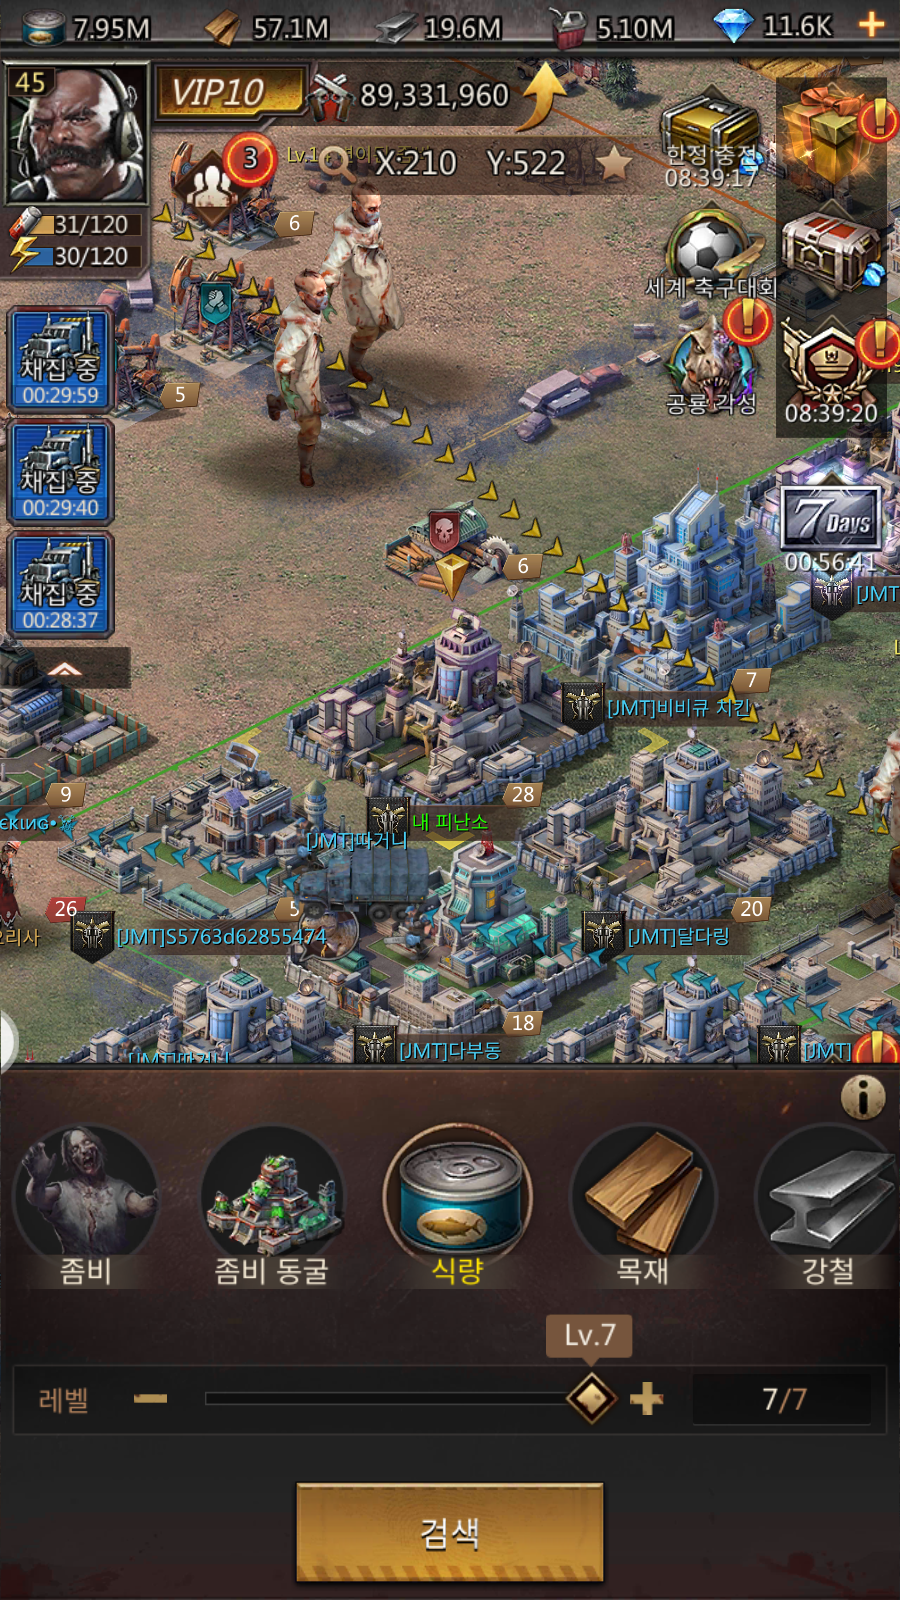rss_food_in_panel: (380, 1118, 540, 1289)
rss_lv7: (544, 1316, 635, 1355)
rss_minus_in_panel: (120, 1378, 178, 1425)
rss_plus_in_panel: (622, 1371, 671, 1422)
rss_search_in_panel: (295, 1484, 604, 1580)
rss_steel_in_panel: (749, 1115, 900, 1290)
rss_wood_in_panel: (571, 1118, 722, 1287)
troops_cnt_3: (169, 127, 278, 251)
